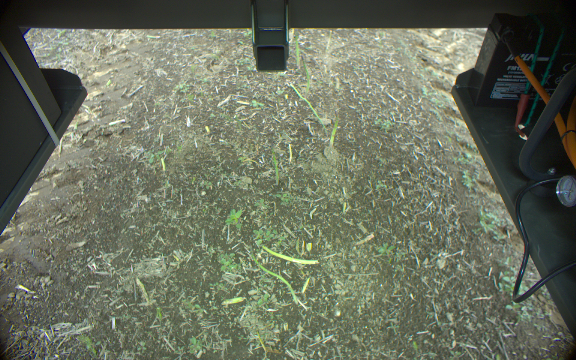aspa: (259, 245, 320, 266), (301, 55, 312, 97), (327, 115, 340, 147), (220, 294, 245, 307), (293, 33, 301, 69)
